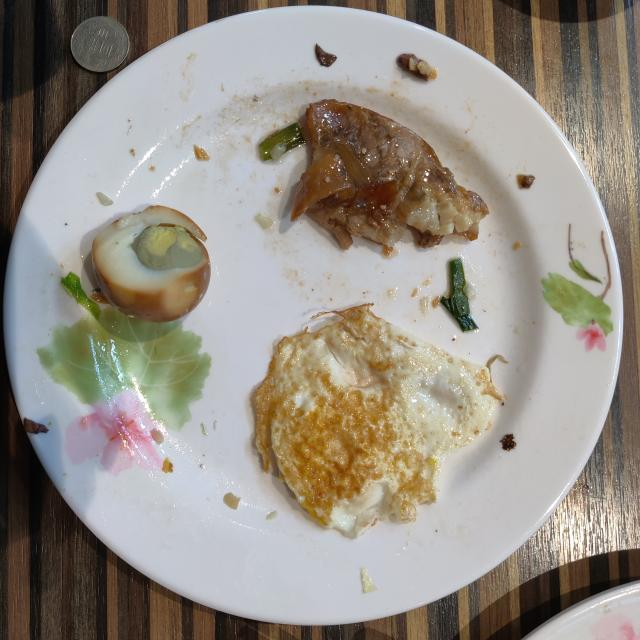Kabayaki sea bream fillet: (291, 99, 489, 249)
coin: (71, 16, 130, 72)
soy egg: (92, 205, 210, 322)
